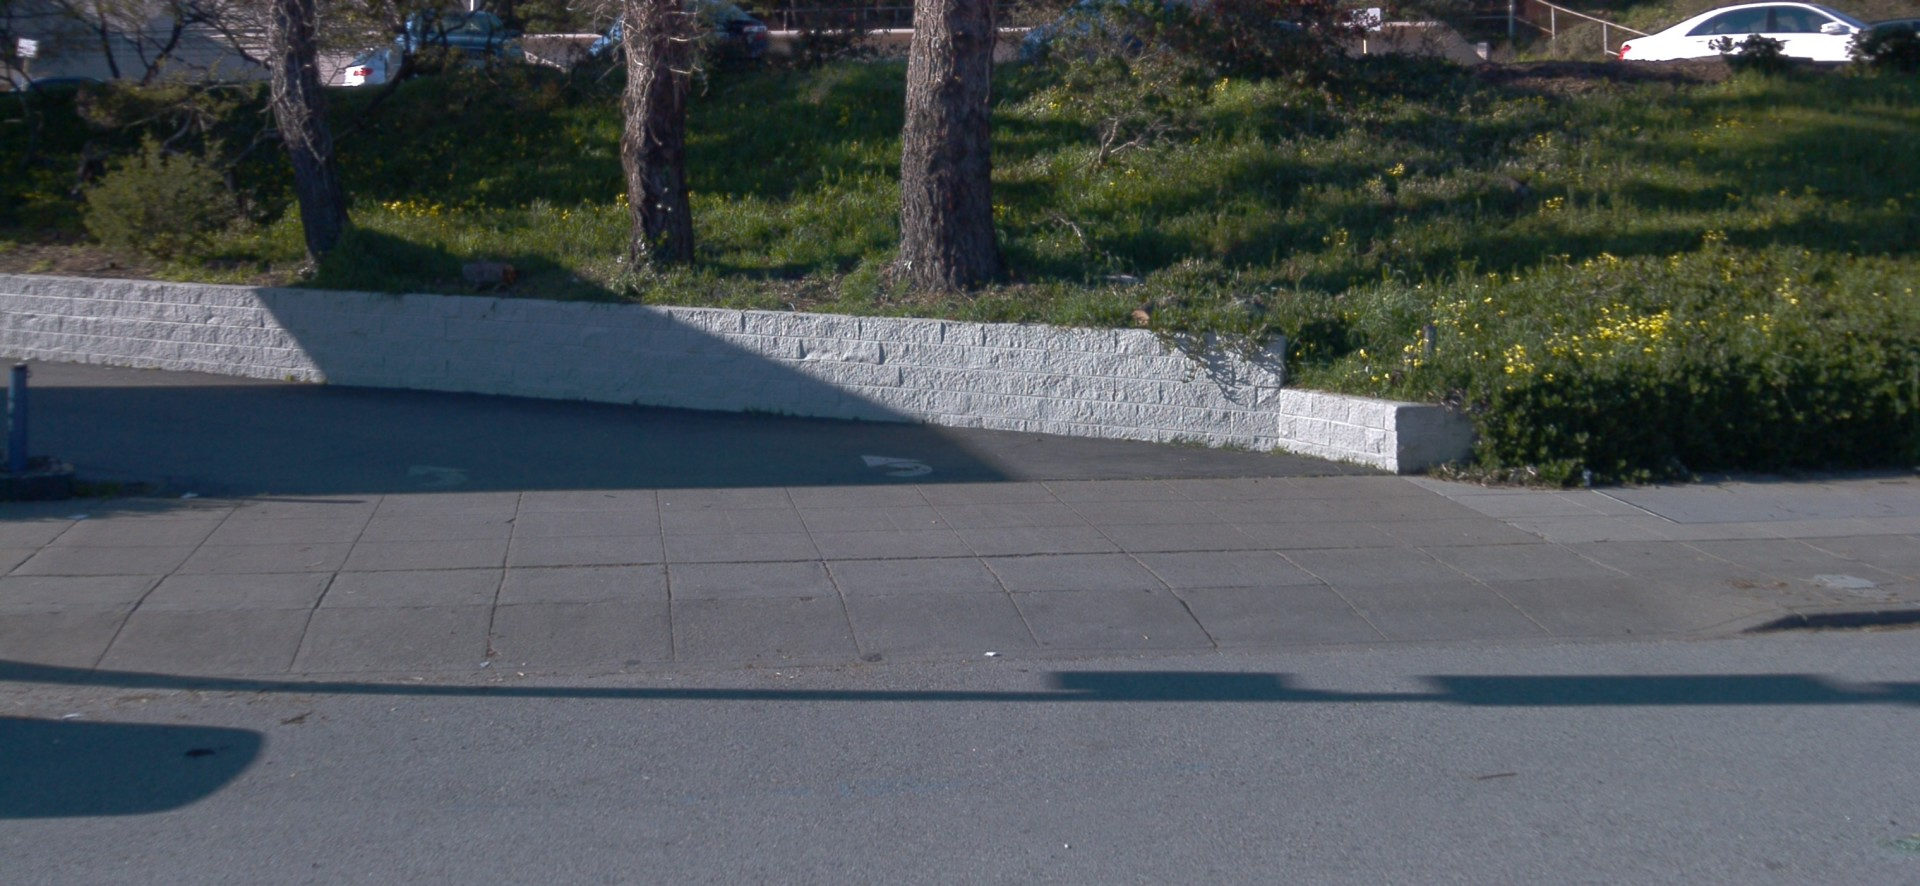TYPE_VEHICLE: (1015, 0, 1330, 70), (1616, 0, 1920, 62), (584, 0, 773, 66), (382, 7, 528, 87), (339, 46, 390, 88), (8, 76, 108, 94), (1868, 19, 1920, 33), (869, 52, 910, 66)
